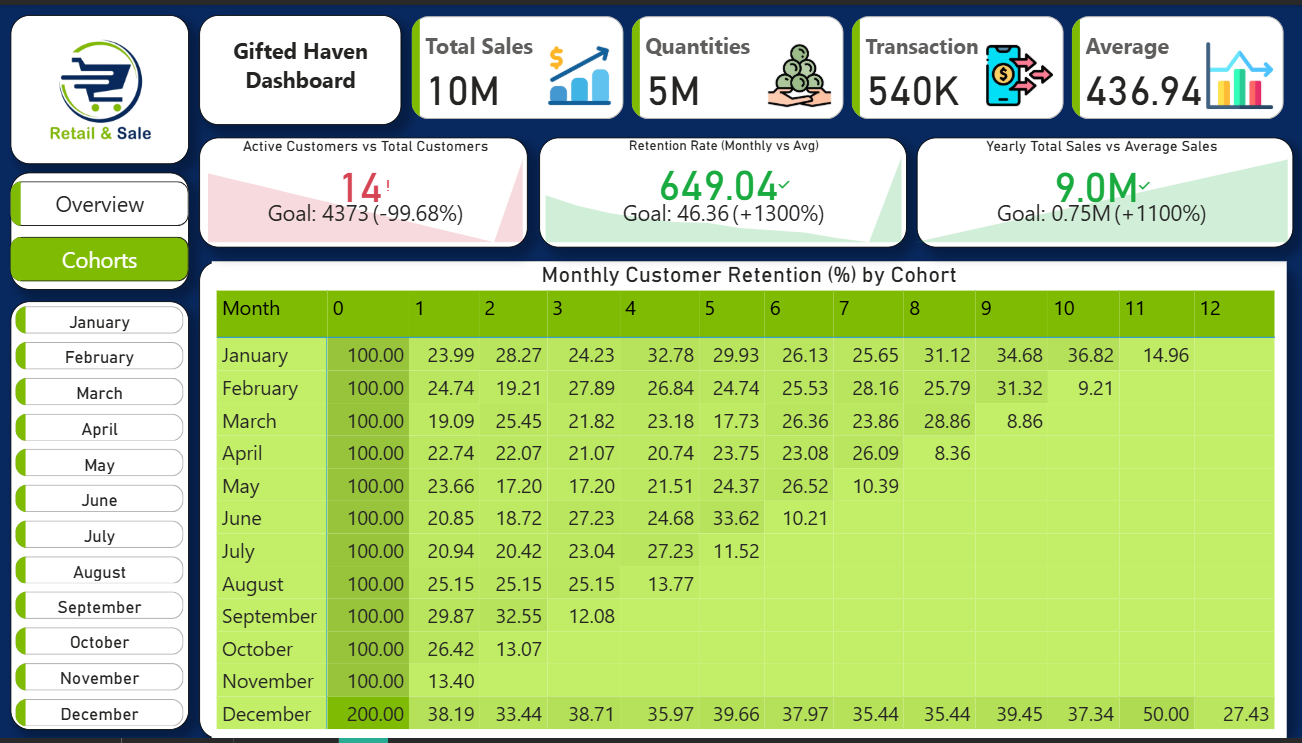

The dashboard page shown, as its layout file describes it:
{"tool":"powerbi","page":{"name":"Cohorts","canvas":[1280,720],"ordinal":1},"visuals":[{"type":"shape","box":[12.3,9.8,175.5,146],"z":0},{"type":"image","box":[0,0,201.2,184.1],"z":1000},{"type":"shape","box":[197.5,9.8,198.8,108],"z":2000},{"type":"textbox","box":[208.6,24.5,176.7,77.3],"z":3000},{"type":"shape","box":[12.3,164.4,175.5,115.3],"z":4000},{"type":"cardVisual","fields":{"Data":["Copy of Online Retail_0.Total_sales","Copy of Online Retail_0.Total_quantity","Copy of Online Retail_0.Total_transaction","Copy of Online Retail_0.Average"]},"box":[401.2,6.1,869.9,111.7],"z":5000},{"type":"shape","box":[12.3,290.8,175.5,420.9],"z":6000},{"type":"advancedSlicerVisual","fields":{"Values":["Copy of Online Retail_0.InvoiceDate.Variation.Date Hierarchy.Month"]},"box":[12.3,290.8,175.5,429.5],"z":7000},{"type":"pageNavigator","box":[12.3,173,175.5,98.2],"z":8000},{"type":"shape","box":[197.5,251.5,1067.5,468.7],"z":9000},{"type":"pivotTable","title":"Monthly Customer Retention (%) by Cohort","fields":{"Values":["Sum(Cohort Analysis.retention_rate)"],"Columns":["Cohort Analysis.month_index"],"Rows":["Cohort Analysis.cohort_month.Variation.Date Hierarchy.Month"]},"box":[209.8,251.5,1055.2,468.7],"z":10000},{"type":"shape","box":[197.5,130.1,322.7,108],"z":11000},{"type":"kpi","title":"Active Customers vs Total Customers","fields":{"TrendLine":["Cohort Analysis.cohort_month.Variation.Date Hierarchy.Month"],"Indicator":["CountNonNull(Cohort Analysis.active_customers)"],"Goal":["Count(Copy of Online Retail_0.CustomerID)"]},"box":[201.2,130.1,319,108],"z":12000},{"type":"shape","box":[531.3,130.1,361,108],"z":13000},{"type":"shape","box":[901.8,130.1,369.3,108],"z":14000},{"type":"kpi","title":"Retention Rate (Monthly vs Avg)","fields":{"Indicator":["Sum(Cohort Analysis.retention_rate)"],"Goal":["Cohort Analysis.target_retention"],"TrendLine":["Cohort Analysis.cohort_month.Variation.Date Hierarchy.Month"]},"box":[532.5,130.1,359.5,108],"z":15000},{"type":"kpi","title":"Yearly Total Sales vs Average Sales","fields":{"Indicator":["Copy of Online Retail_0.Total_sales"],"TrendLine":["Copy of Online Retail_0.InvoiceDate.Variation.Date Hierarchy.Year"],"Goal":["Copy of Online Retail_0.Sales_Avg"]},"box":[895.7,130.1,375.5,108],"z":16001}]}

Visuals, with their boxes in screenshot pixels (x1, y1, x2, y2), scaled from the page's 1280x720 canvas onto the 1302x743 screenshot:
shape: x1=13, y1=10, x2=191, y2=161
image: x1=0, y1=0, x2=205, y2=190
shape: x1=201, y1=10, x2=403, y2=122
textbox: x1=212, y1=25, x2=392, y2=105
shape: x1=13, y1=170, x2=191, y2=289
cardVisual - Copy of Online Retail_0.Total_sales x Copy of Online Retail_0.Total_quantity: x1=408, y1=6, x2=1293, y2=122
shape: x1=13, y1=300, x2=191, y2=734
advancedSlicerVisual - Copy of Online Retail_0.InvoiceDate.Variation.Date Hierarchy.Month: x1=13, y1=300, x2=191, y2=742
pageNavigator: x1=13, y1=179, x2=191, y2=280
shape: x1=201, y1=260, x2=1287, y2=742
"Monthly Customer Retention (%) by Cohort" pivotTable: x1=213, y1=260, x2=1287, y2=742
shape: x1=201, y1=134, x2=529, y2=246
"Active Customers vs Total Customers" kpi: x1=205, y1=134, x2=529, y2=246
shape: x1=540, y1=134, x2=908, y2=246
shape: x1=917, y1=134, x2=1293, y2=246
"Retention Rate (Monthly vs Avg)" kpi: x1=542, y1=134, x2=907, y2=246
"Yearly Total Sales vs Average Sales" kpi: x1=911, y1=134, x2=1293, y2=246
